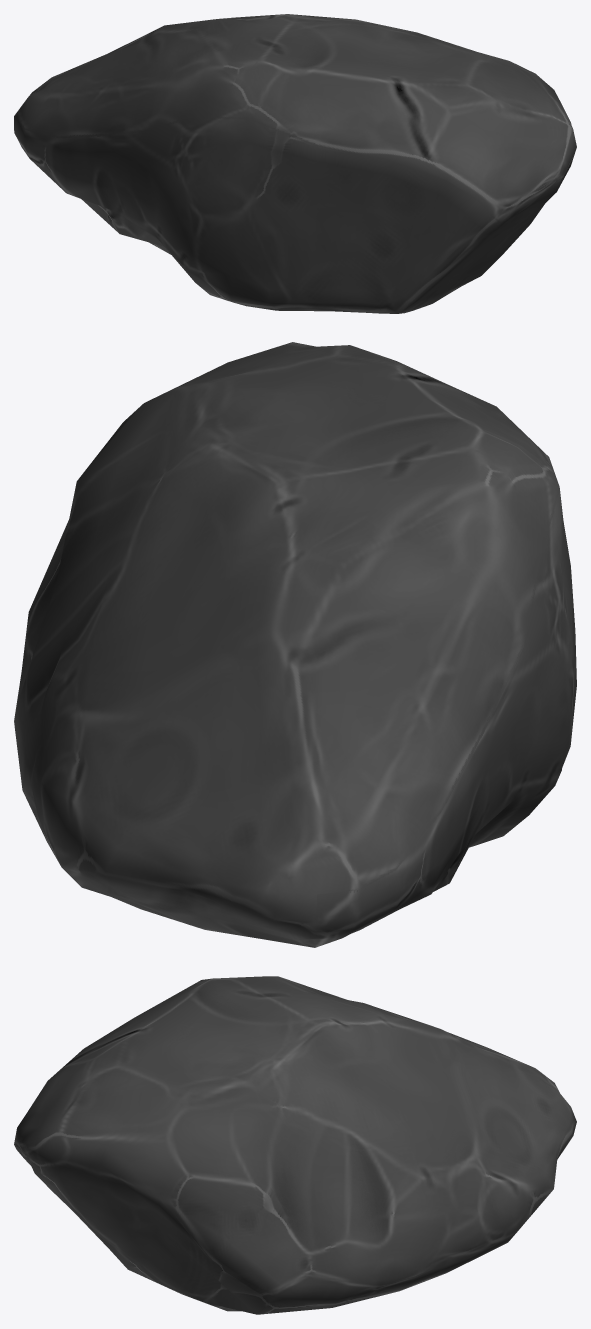
Rendered from rock.glb.
3 renders of one model, top to bottom at view 1: azimuth 30°, elevation 25°; view 2: azimuth 150°, elevation 25°; view 3: azimuth 270°, elevation 25°, orthographic. The views are drawn at different scales.
Parts seen in each view (by area): view 1: Rock4; view 2: Rock4; view 3: Rock4.
Boxes of the visible parts, x1,y1,x2,y2 form: Rock4: [14, 14, 576, 313]; Rock4: [14, 342, 576, 947]; Rock4: [14, 976, 576, 1314].
Bounding box in the file's own units: 22.64 × 14.81 × 30.57.
Materials: 1 (1 with a texture image).
